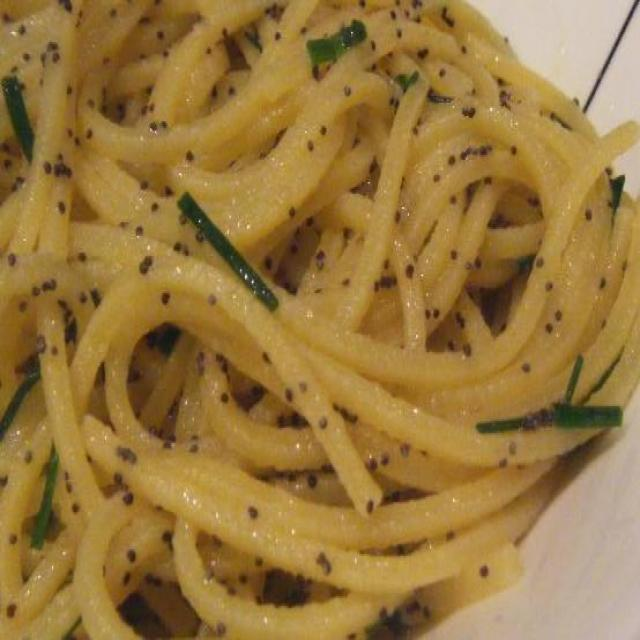Oil pasta: (7, 15, 635, 618)
